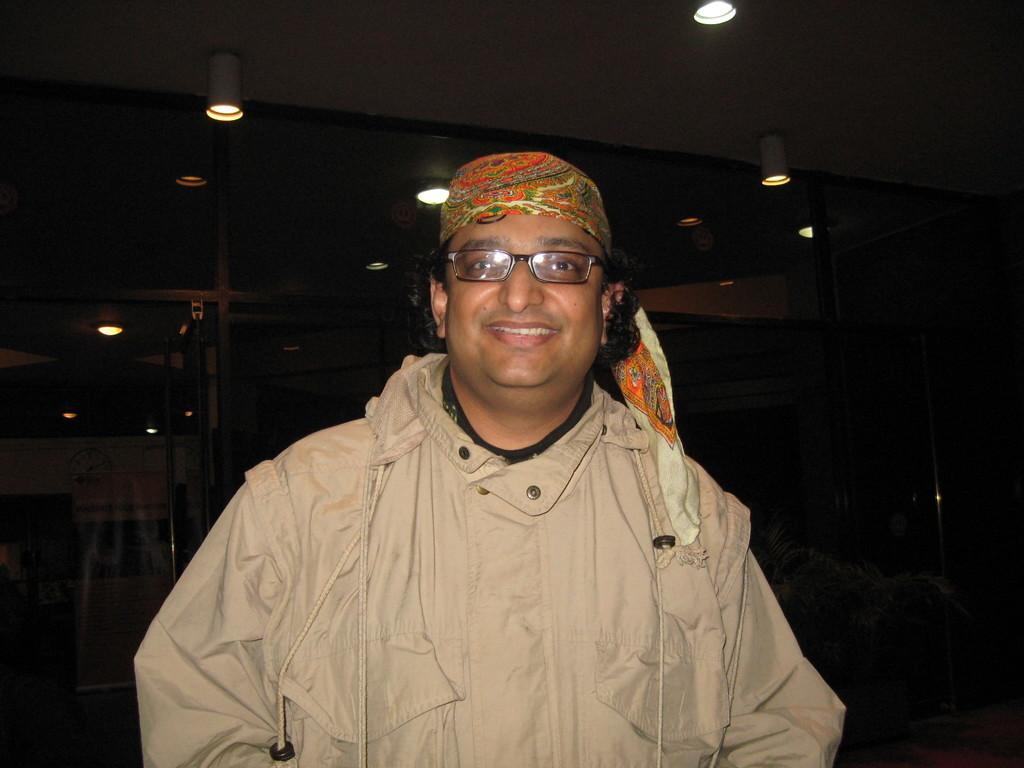Sem Máscara: (442, 209, 602, 405)
